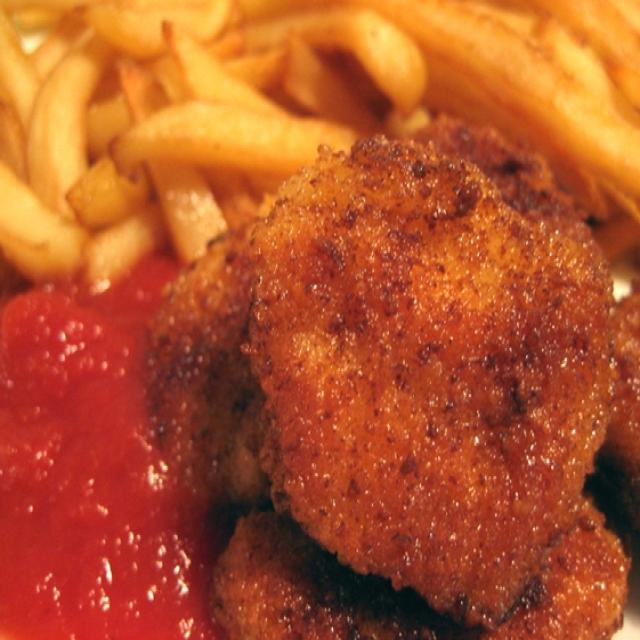鸡肉料理 含炸鸡: (60, 66, 610, 607)
